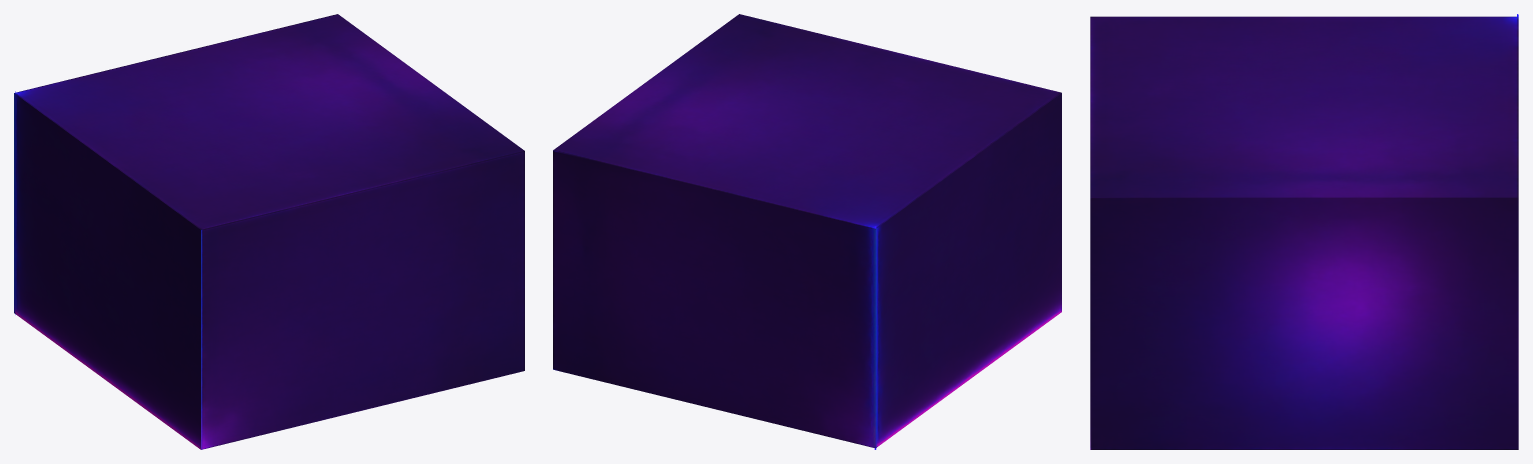
File: index.glb
3 renders of one model, left to right at view 1: azimuth 30°, elevation 25°; view 2: azimuth 150°, elevation 25°; view 3: azimuth 270°, elevation 25°, orthographic. The views are drawn at different scales.
Parts seen in each view (by area): view 1: Cube; view 2: Cube; view 3: Cube.
Part boxes in pixels (x1,y1,x2,y2): Cube: [14, 14, 524, 449]; Cube: [553, 14, 1061, 448]; Cube: [1090, 16, 1518, 449].
Bounding box in the file's own units: 15.96 × 10.57 × 15.96.
Materials: 7 (3 with a texture image).
